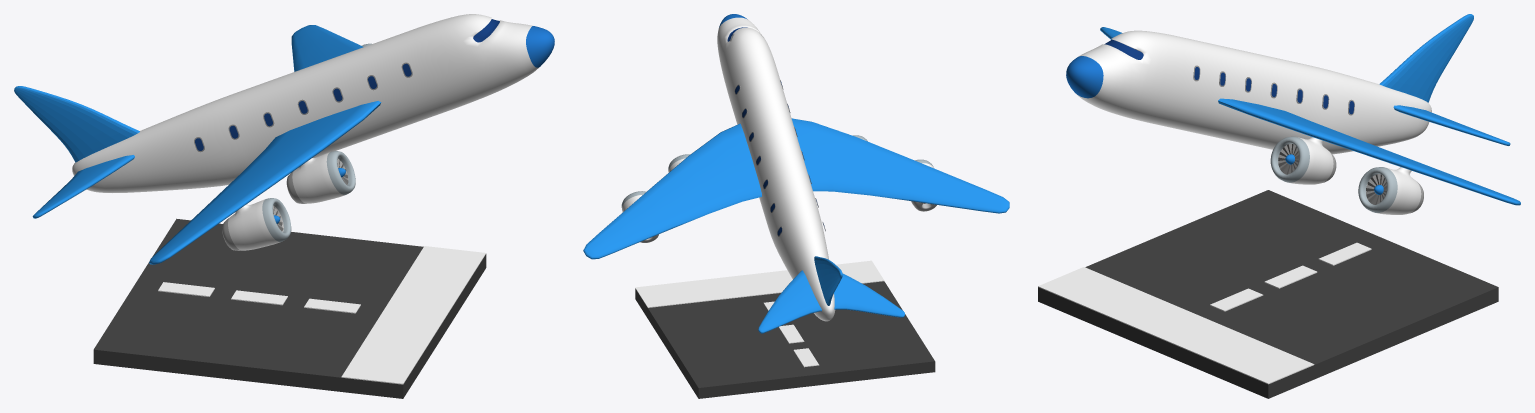
Rendered from airplane_departure.fbx.
3 views of the same model, side by side, from view 1: azimuth 30°, elevation 25°; view 2: azimuth 150°, elevation 25°; view 3: azimuth 270°, elevation 25° (orthographic). The views are drawn at different scales.
Parts seen in each view (by area): view 1: Cube.796; view 2: Cube.796; view 3: Cube.796.
Part boxes in pixels (<box>): Cube.796: <box>14,14,554,398</box>; Cube.796: <box>583,14,1009,398</box>; Cube.796: <box>1038,14,1520,398</box>.
Bounding box in the file's own units: 208 × 154 × 208.
1 material, 1 textured.
